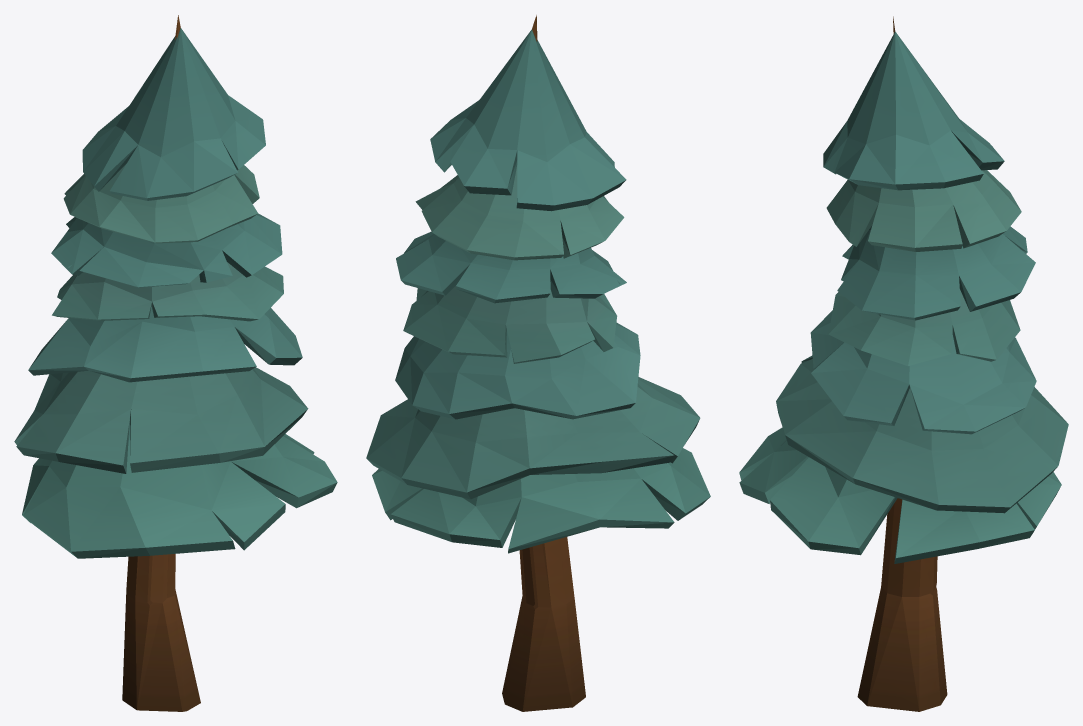
The model's file is tree_fir.glb.
3 renders of one model, left to right at view 1: azimuth 30°, elevation 25°; view 2: azimuth 150°, elevation 25°; view 3: azimuth 270°, elevation 25°, orthographic.
Parts seen in each view (by area): view 1: tree_fir; view 2: tree_fir; view 3: tree_fir.
Part boxes in pixels (left/top/right/bottom): tree_fir: left=14, top=15, right=337, bottom=711; tree_fir: left=366, top=15, right=710, bottom=711; tree_fir: left=739, top=16, right=1068, bottom=711.
Size of the model in its own units: 1.87 by 4.2 by 1.83.
1 material, 1 textured.
